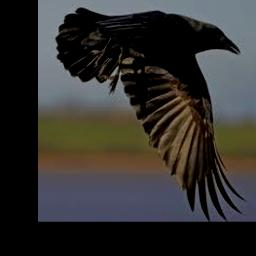Crow: (55, 8, 246, 221)
